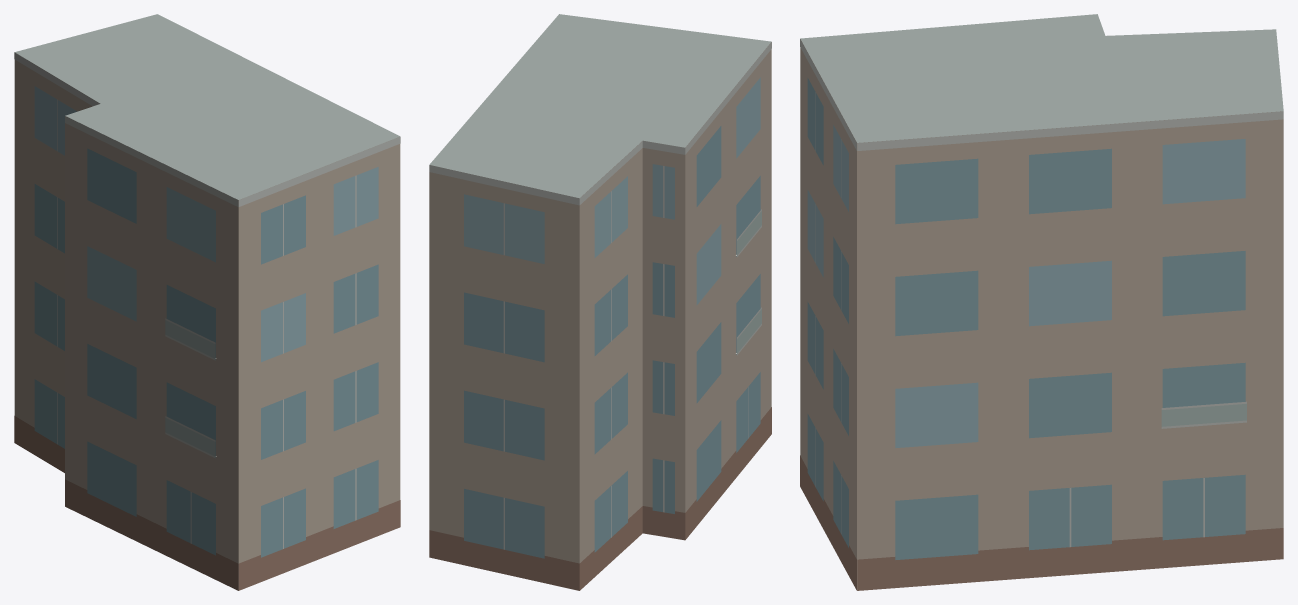
File: survey-upis-32897072.glb
3 renders of one model, left to right at view 1: azimuth 30°, elevation 25°; view 2: azimuth 150°, elevation 25°; view 3: azimuth 270°, elevation 25°, orthographic. The views are drawn at different scales.
Visible parts, largest first — view 1: survey-upis-32897072.tmp; view 2: survey-upis-32897072.tmp; view 3: survey-upis-32897072.tmp.
Part boxes in pixels (x1,y1,x2,y2): survey-upis-32897072.tmp: [14, 14, 400, 590]; survey-upis-32897072.tmp: [429, 14, 771, 590]; survey-upis-32897072.tmp: [800, 14, 1283, 590].
Bounding box in the file's own units: 8.22 × 13.3 × 13.02.
